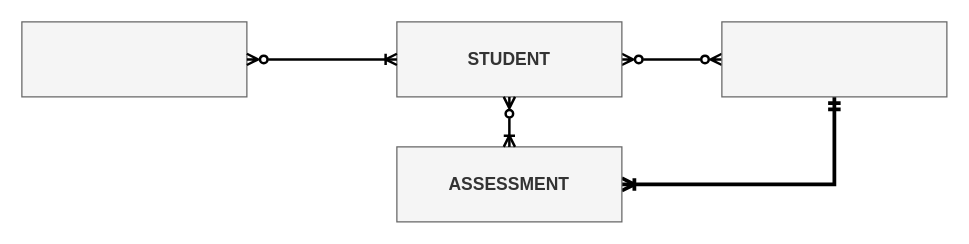
Some shapes in this 969 by 244 pixel diagram are drawn without their labels. The shapes that lost their labels are listed below. From the top down, each one's centre as x and y in pixels, then its label:
At point (134, 59): "VIRTUAL LEARNING ENIVERONMENT".
At point (834, 59): "COURSE".
